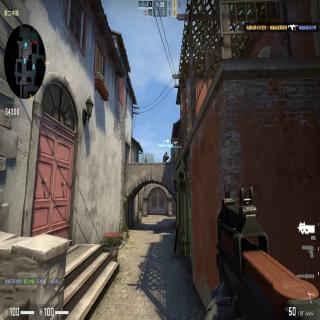CT-Head: (165, 151, 168, 156)
